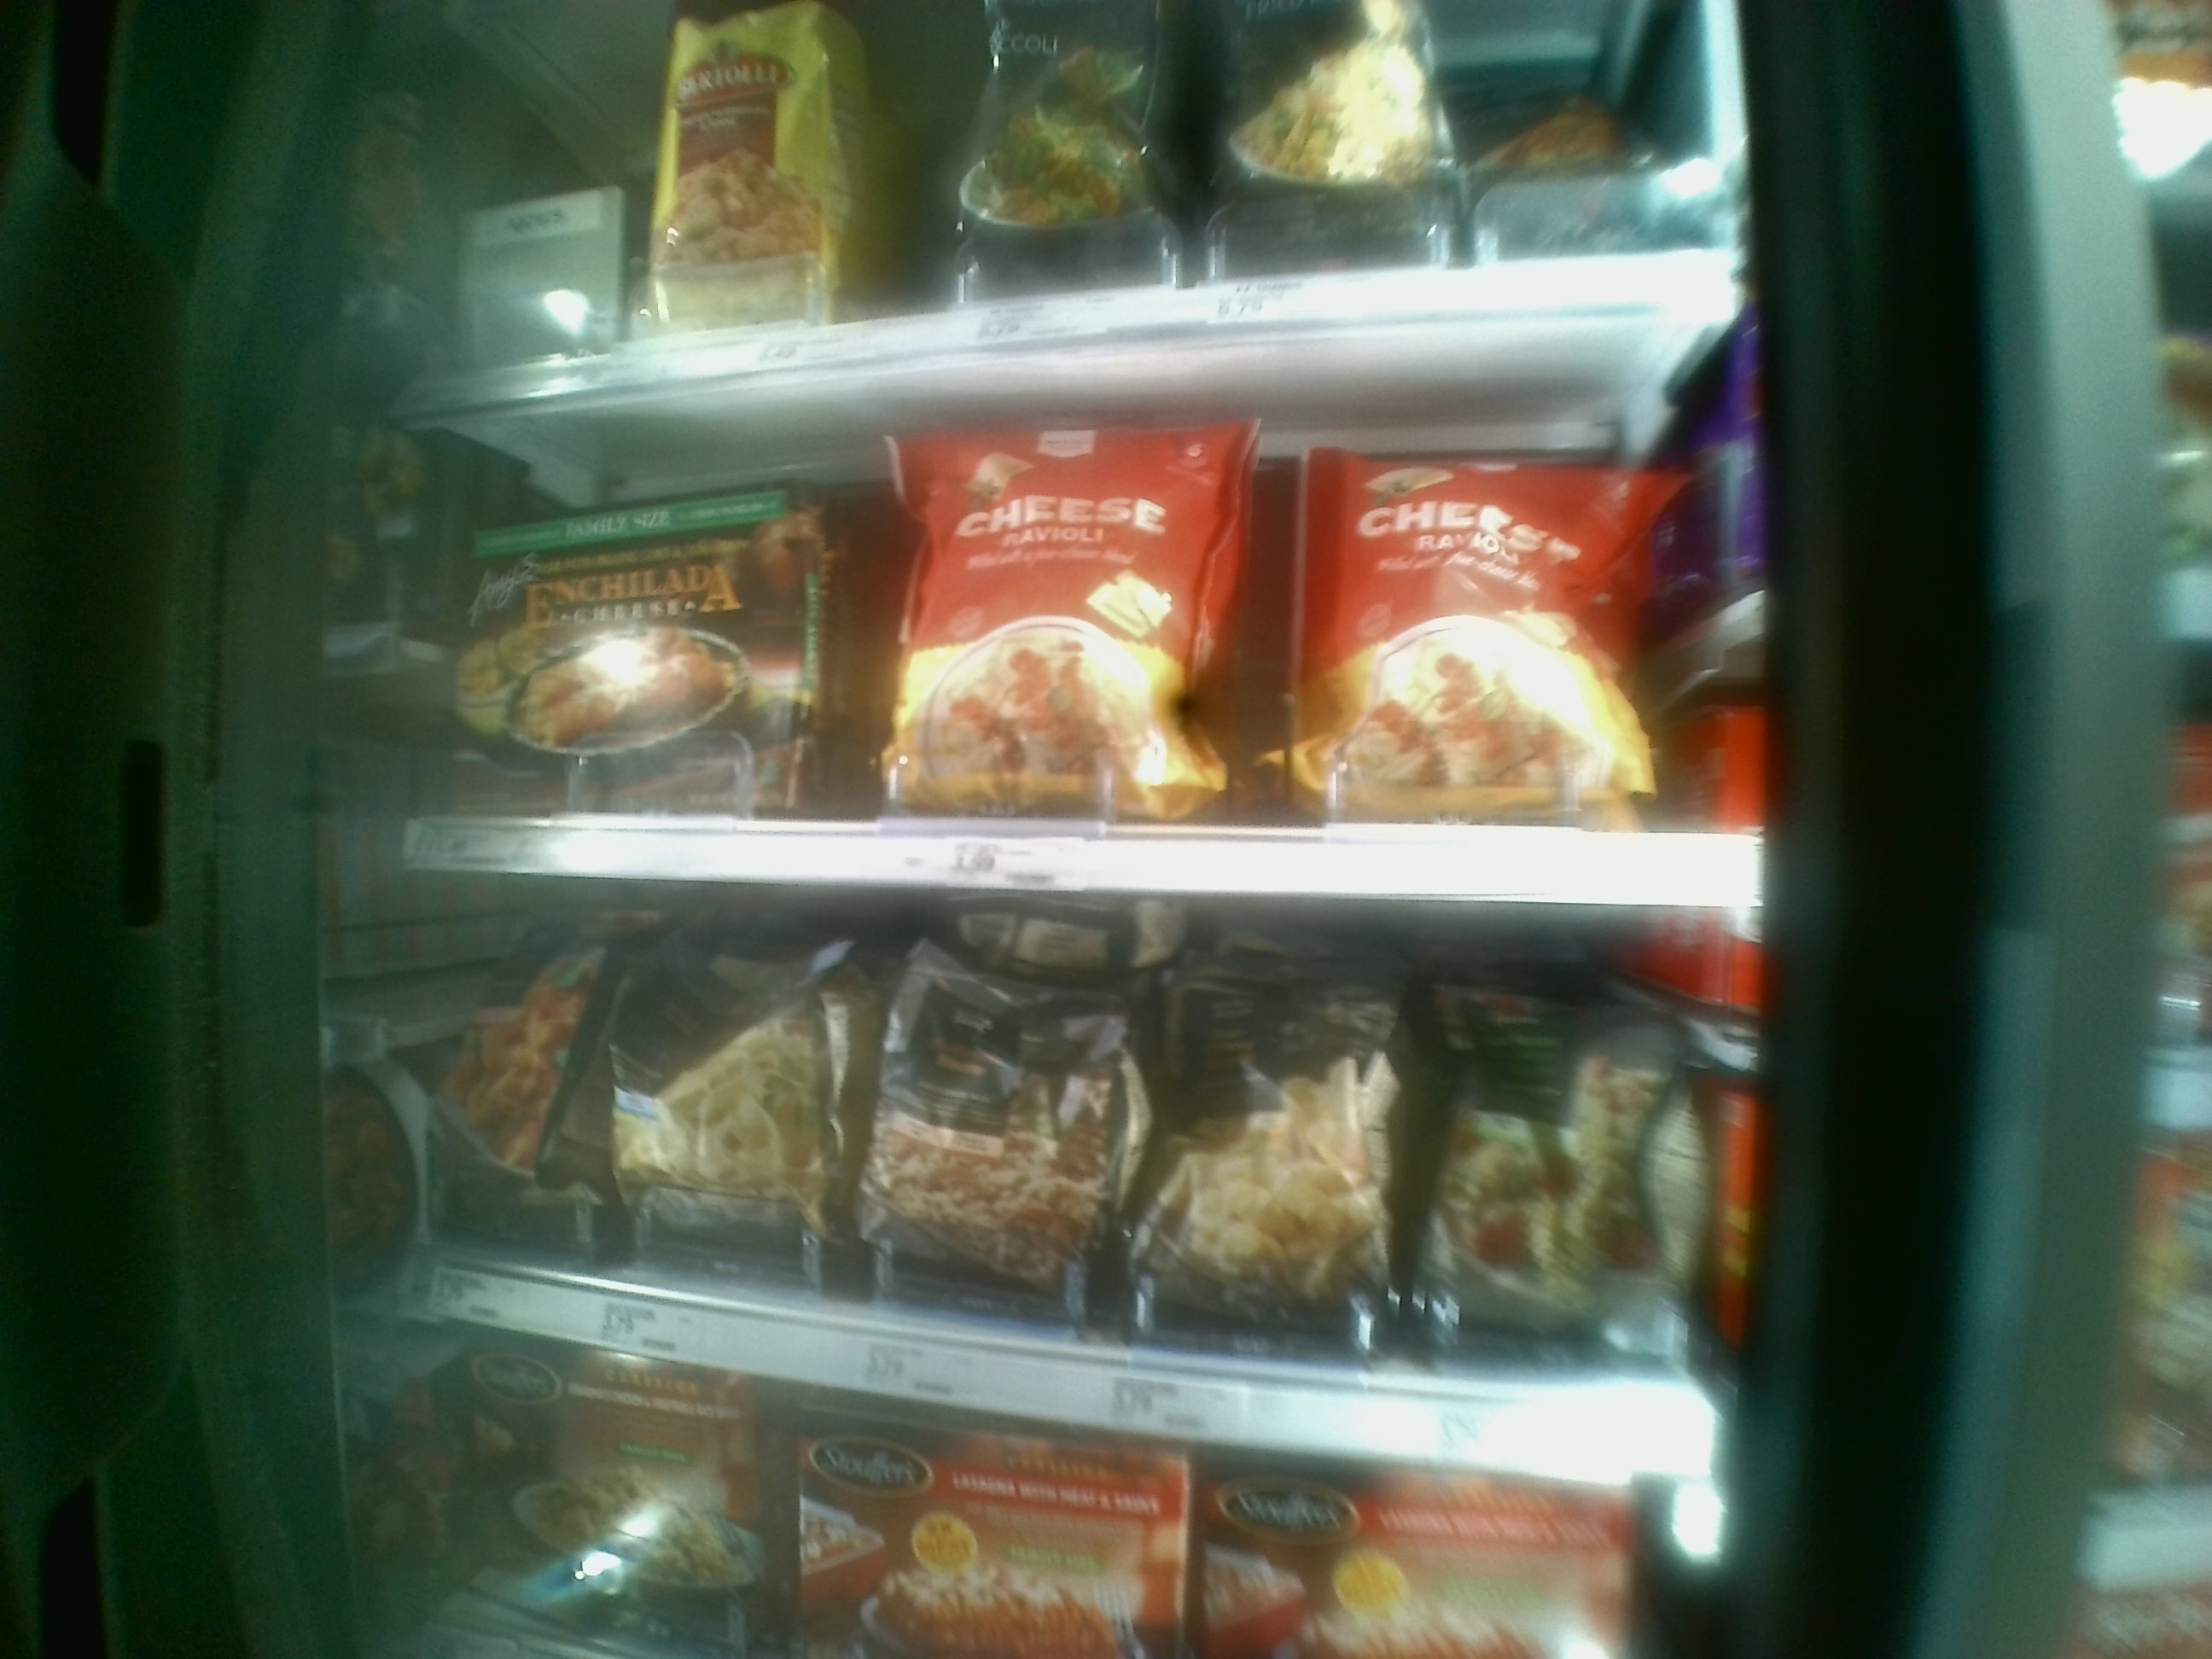shelf: (413, 868, 1667, 1450), (418, 345, 1754, 873)
